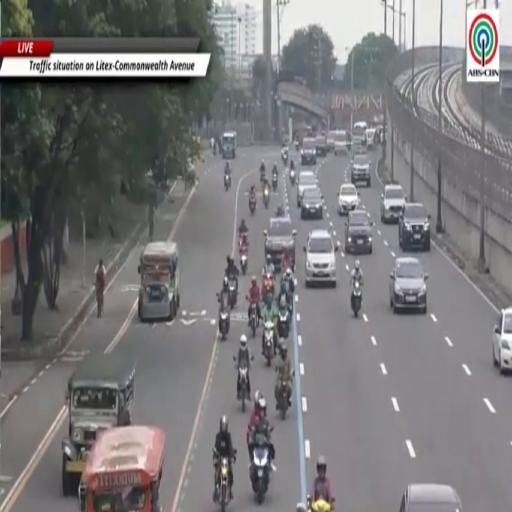car: (390, 256, 428, 313), (304, 230, 338, 286), (264, 216, 296, 273), (400, 484, 462, 511), (399, 203, 431, 251), (492, 308, 512, 374), (345, 210, 374, 253), (381, 184, 407, 222), (296, 171, 318, 207), (301, 187, 323, 219), (338, 184, 359, 215), (351, 154, 371, 186), (301, 138, 316, 165), (334, 130, 349, 156), (315, 136, 327, 156), (327, 131, 335, 152)
jeepney: (62, 354, 134, 495), (78, 426, 165, 511), (138, 241, 180, 322), (222, 132, 236, 158), (366, 128, 375, 150)
motorcycle: (250, 441, 275, 504), (215, 458, 230, 511), (237, 366, 250, 412), (303, 495, 335, 511), (277, 379, 288, 420), (277, 304, 290, 338), (264, 322, 274, 366), (218, 306, 230, 341), (351, 281, 362, 316), (262, 272, 274, 300), (249, 302, 258, 338), (228, 277, 237, 309), (239, 246, 248, 276), (96, 286, 103, 317), (262, 187, 270, 209), (249, 196, 256, 215), (289, 169, 296, 186), (224, 174, 231, 190), (272, 173, 278, 191), (282, 150, 288, 165), (295, 141, 299, 151), (213, 144, 216, 155)
